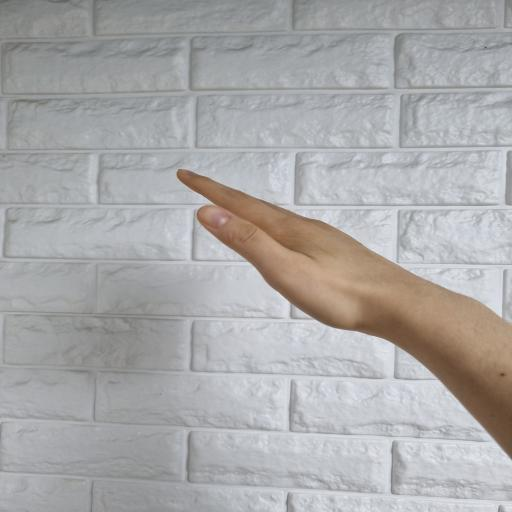Paper: (176, 168, 382, 333)
